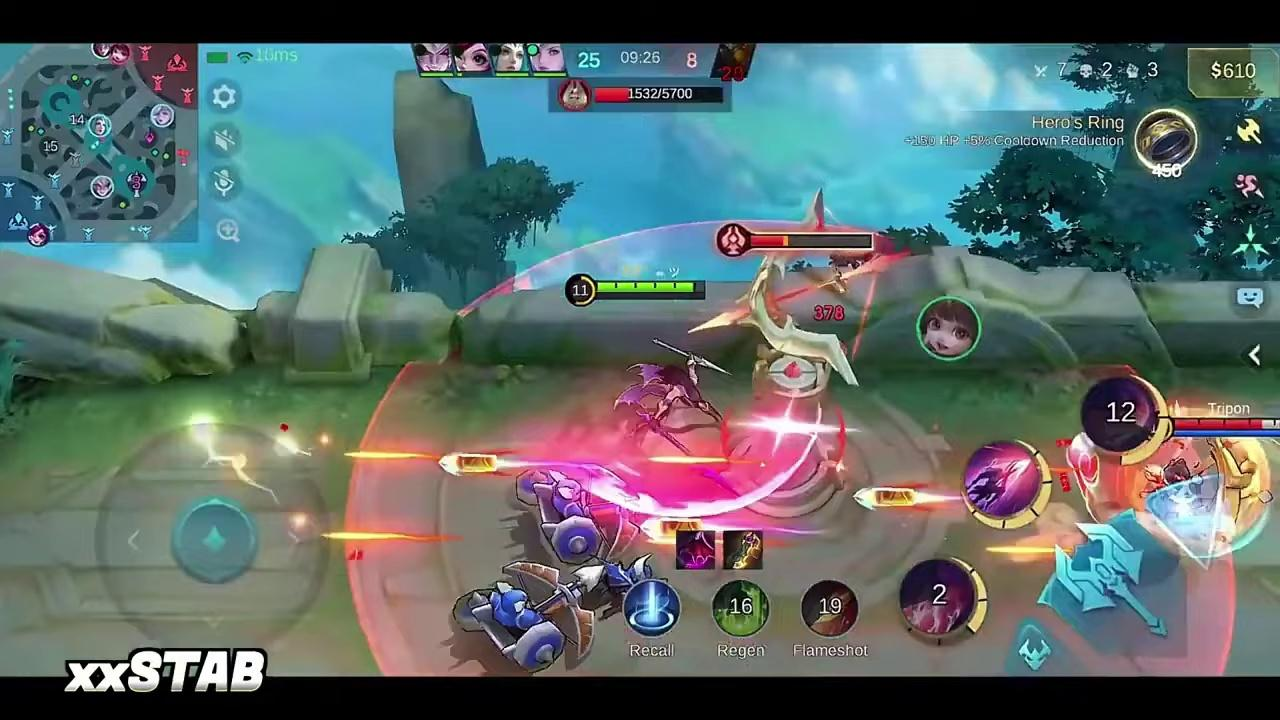Adc_Aliado: (150, 107, 179, 123)
Adc_Enemigo: (99, 42, 109, 59)
Arlott: (618, 359, 726, 445)
Chang-e: (1146, 446, 1268, 550)
Esbirro_Aliado: (450, 562, 597, 672), (513, 464, 647, 561)
HP_Enemigo: (1177, 418, 1280, 430)
Jungla_Aliado: (90, 177, 116, 197)
Mana: (1178, 429, 1280, 435)
Mid_Aliado: (85, 111, 114, 137)
Mid_Enemigo: (109, 49, 133, 62)
Minimapa: (0, 44, 198, 244)
Roamer_Aliado: (25, 226, 52, 247)
Skill2: (962, 444, 1056, 525)
Torre_Aliada: (688, 252, 867, 506)
